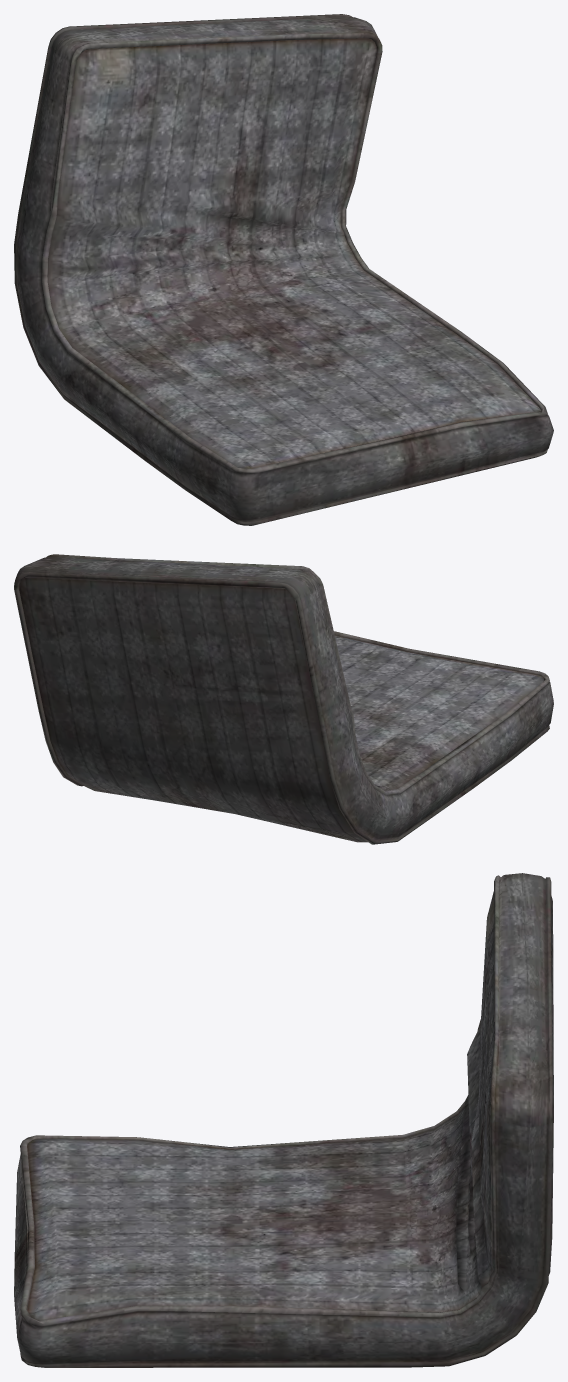
Rendered from oldsinglemattress_c.glb.
3 renders of one model, top to bottom at view 1: azimuth 30°, elevation 25°; view 2: azimuth 150°, elevation 25°; view 3: azimuth 270°, elevation 25°, orthographic. The views are drawn at different scales.
Parts seen in each view (by area): view 1: OldSingleMattress_C; view 2: OldSingleMattress_C; view 3: OldSingleMattress_C.
Part boxes in pixels (left/top/right/bottom): OldSingleMattress_C: left=14, top=14, right=553, bottom=525; OldSingleMattress_C: left=14, top=554, right=553, bottom=844; OldSingleMattress_C: left=14, top=873, right=553, bottom=1367.
Size of the model in its own units: 1.18 by 0.9576 by 1.32.
1 material, 1 textured.
